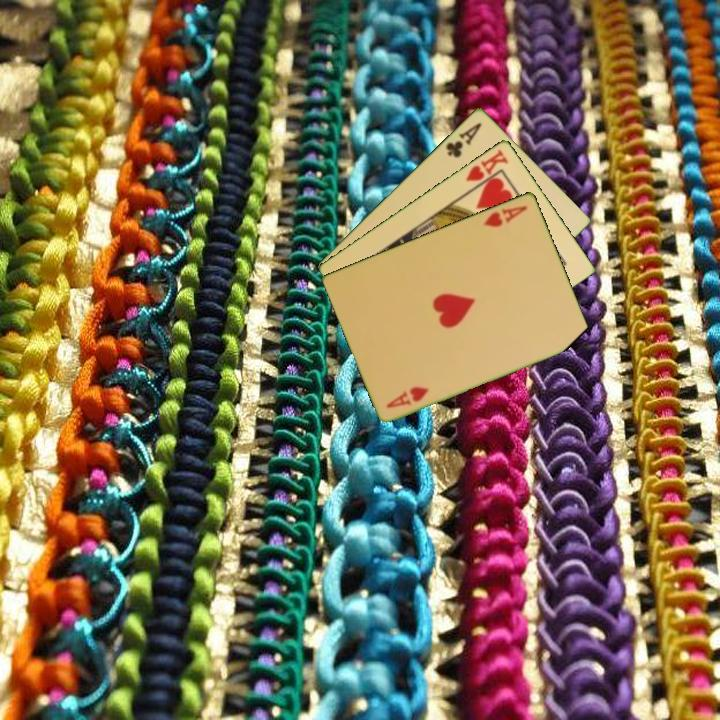Ac: (442, 118, 484, 160)
Ah: (480, 202, 530, 230), (383, 383, 432, 411)
Kh: (462, 145, 511, 193)
